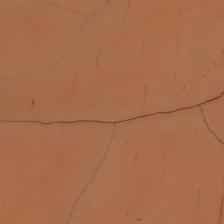Crack: (1, 48, 222, 104), (56, 27, 168, 94), (0, 24, 70, 65)
